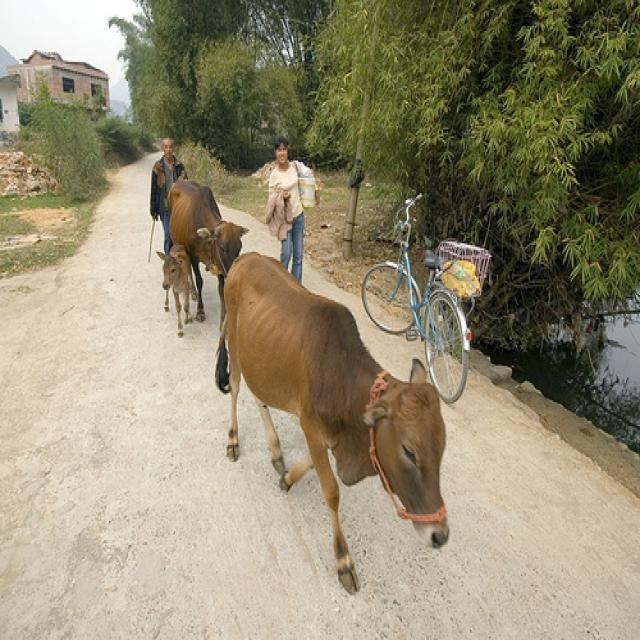cow: (212, 249, 448, 595), (165, 171, 248, 324), (155, 245, 194, 324)
